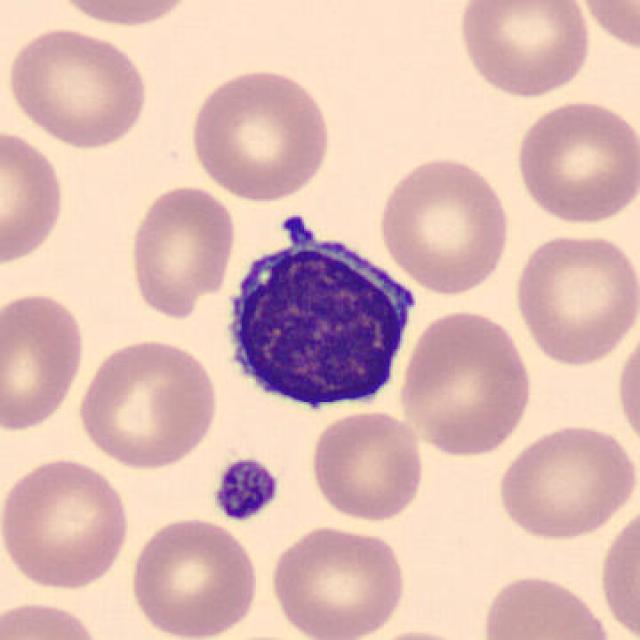lymphocyte: (228, 218, 421, 423)
platelets: (219, 456, 273, 524)
rbc: (402, 318, 534, 452), (88, 339, 214, 469), (384, 162, 500, 293), (0, 464, 123, 587), (499, 430, 639, 536), (278, 524, 403, 640), (130, 520, 256, 635), (519, 245, 640, 364), (204, 80, 323, 199), (16, 38, 148, 144), (0, 290, 82, 436), (525, 113, 640, 216), (318, 412, 422, 524), (466, 0, 591, 93), (142, 196, 230, 316), (0, 133, 64, 268), (488, 572, 613, 640), (603, 517, 640, 638), (572, 0, 640, 62), (0, 602, 96, 640), (67, 0, 184, 28), (611, 344, 640, 438), (386, 624, 460, 640)
